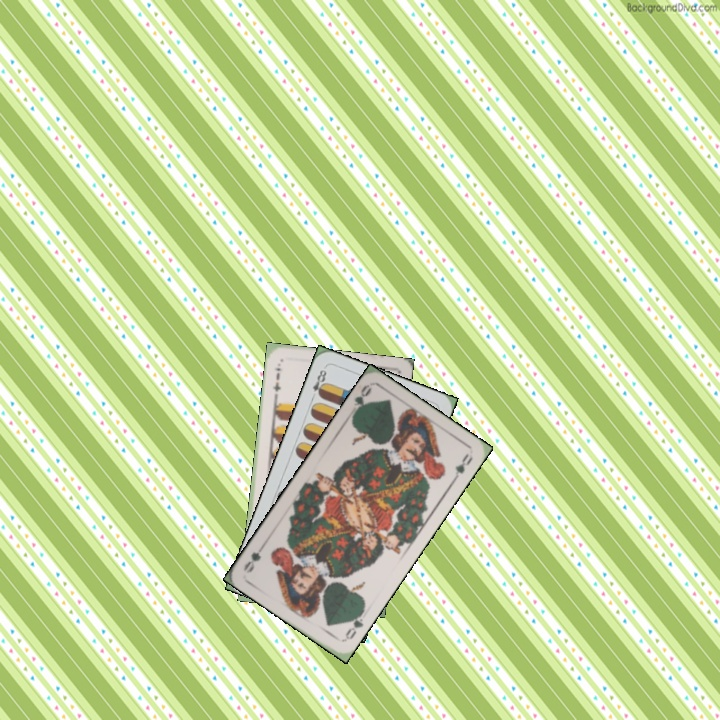E7: (269, 364, 284, 399)
E8: (307, 365, 329, 402)
GO: (348, 380, 374, 419), (341, 607, 367, 643)
